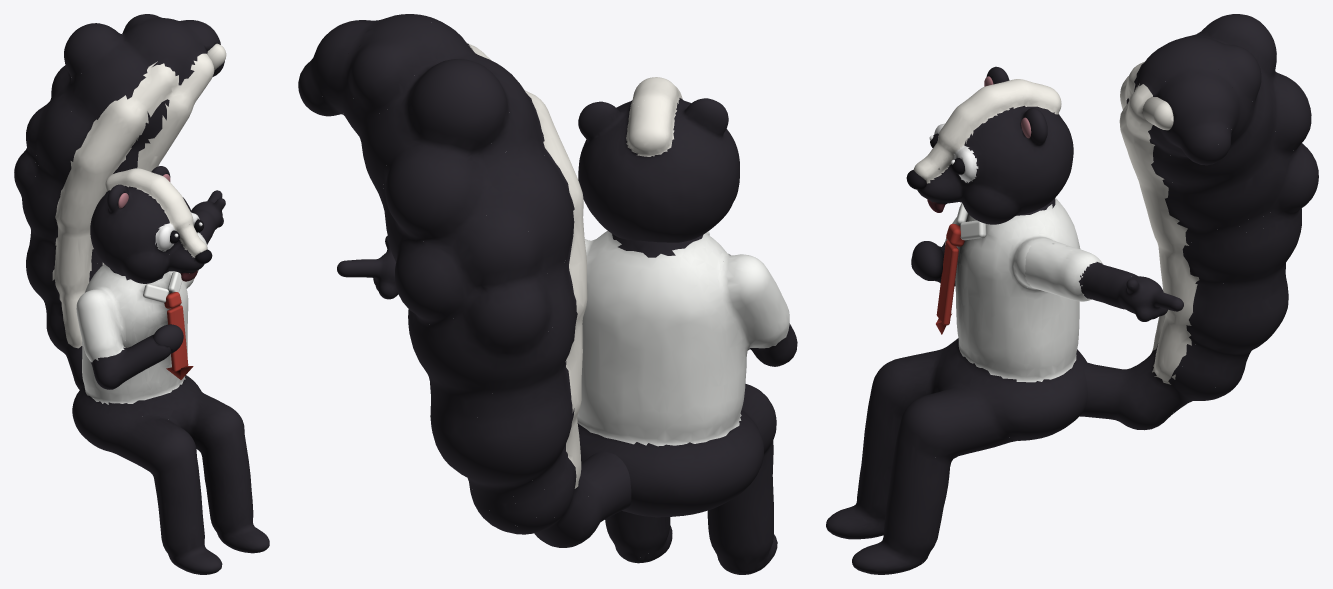
File: jag-forstar-vad-du-menar.glb
3 views of the same model, side by side, from view 1: azimuth 30°, elevation 25°; view 2: azimuth 150°, elevation 25°; view 3: azimuth 270°, elevation 25° (orthographic). The views are drawn at different scales.
Parts seen in each view (by area): view 1: rabo__r0, gamba__r0, cabeca__r0, pata__r0, gamba__r3, gamba__r5, gamba__r6; view 2: rabo__r0, gamba__r0, cabeca__r0, pata__r0; view 3: rabo__r0, gamba__r0, cabeca__r0, pata__r0, gamba__r3, gamba__r5, rabo__r1.
Part boxes in pixels (bbox=[...]): rabo__r0: bbox=[14, 14, 224, 389]; gamba__r0: bbox=[72, 264, 269, 574]; cabeca__r0: bbox=[90, 166, 207, 283]; pata__r0: bbox=[191, 190, 225, 272]; gamba__r3: bbox=[167, 305, 188, 371]; gamba__r5: bbox=[153, 324, 183, 353]; gamba__r6: bbox=[143, 284, 168, 302]; rabo__r0: bbox=[298, 14, 631, 547]; gamba__r0: bbox=[577, 230, 797, 574]; cabeca__r0: bbox=[578, 77, 739, 242]; pata__r0: bbox=[337, 236, 398, 299]; rabo__r0: bbox=[1079, 14, 1318, 430]; gamba__r0: bbox=[826, 198, 1087, 574]; cabeca__r0: bbox=[913, 66, 1073, 224]; pata__r0: bbox=[1018, 237, 1183, 321]; gamba__r3: bbox=[936, 240, 958, 325]; gamba__r5: bbox=[912, 241, 943, 280]; rabo__r1: bbox=[1142, 97, 1173, 130].
Size of the model in its own units: 1.12 by 2.02 by 1.64.
